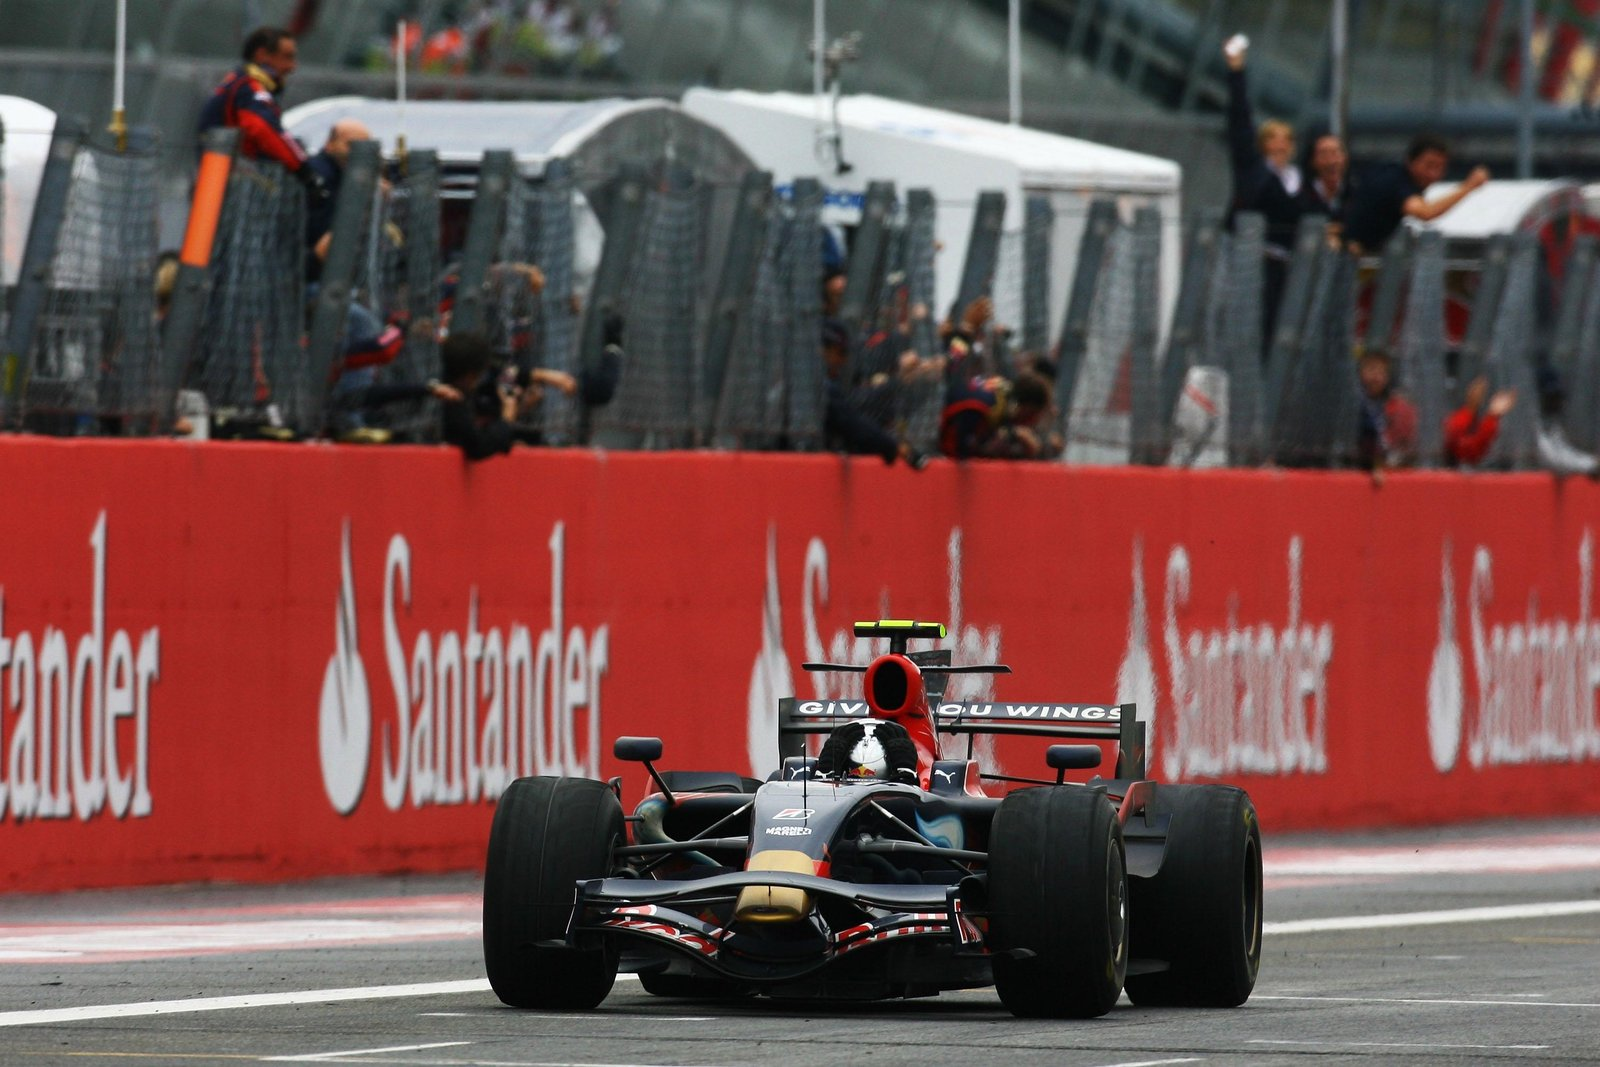race car: (477, 616, 1268, 1027)
